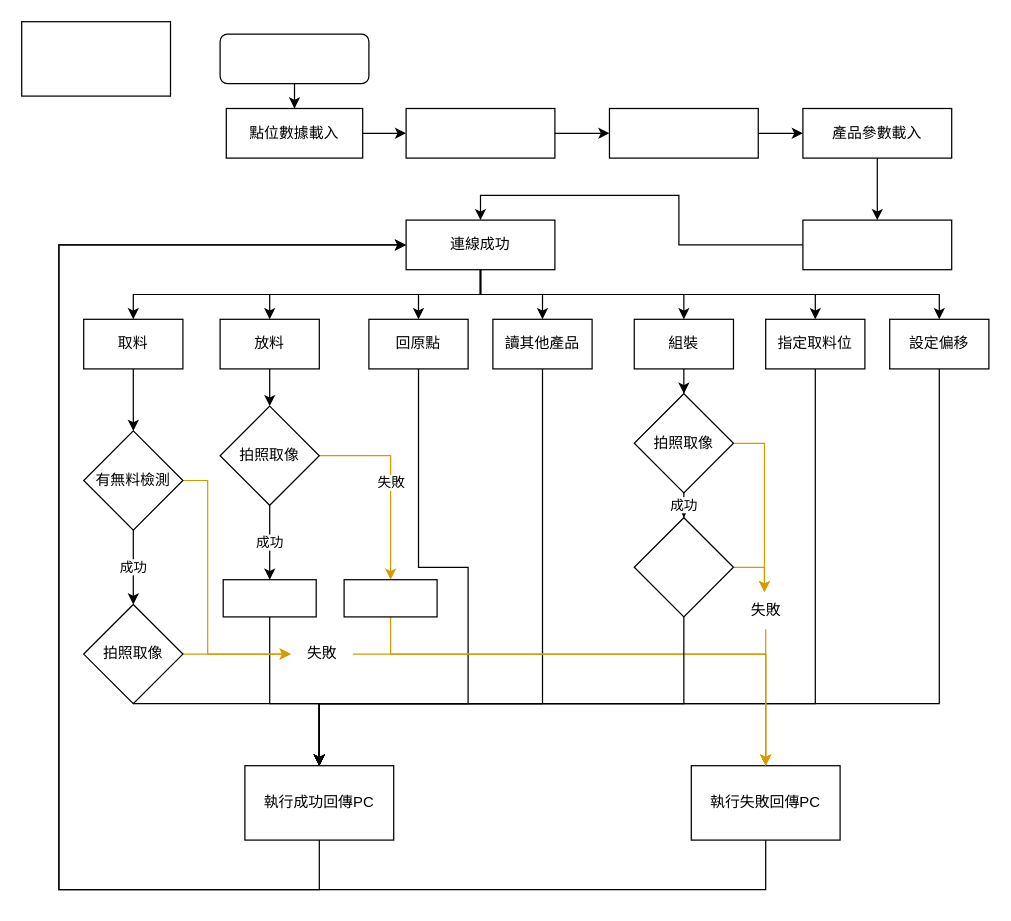
Some shapes in this 1011 by 921 pixel diagram are drawn without their labels. Here are the shapes that lost their labels. From the top down, the centre of each, then its label:
(95,58): 放料手臂
(294,58): 開啟電源
(480,132): 等待PC登入
(683,132): 手臂上電
(877,244): 等待連線
(683,566): 開始組裝
(269,597): 放料到平台
(390,597): 放回料盤
